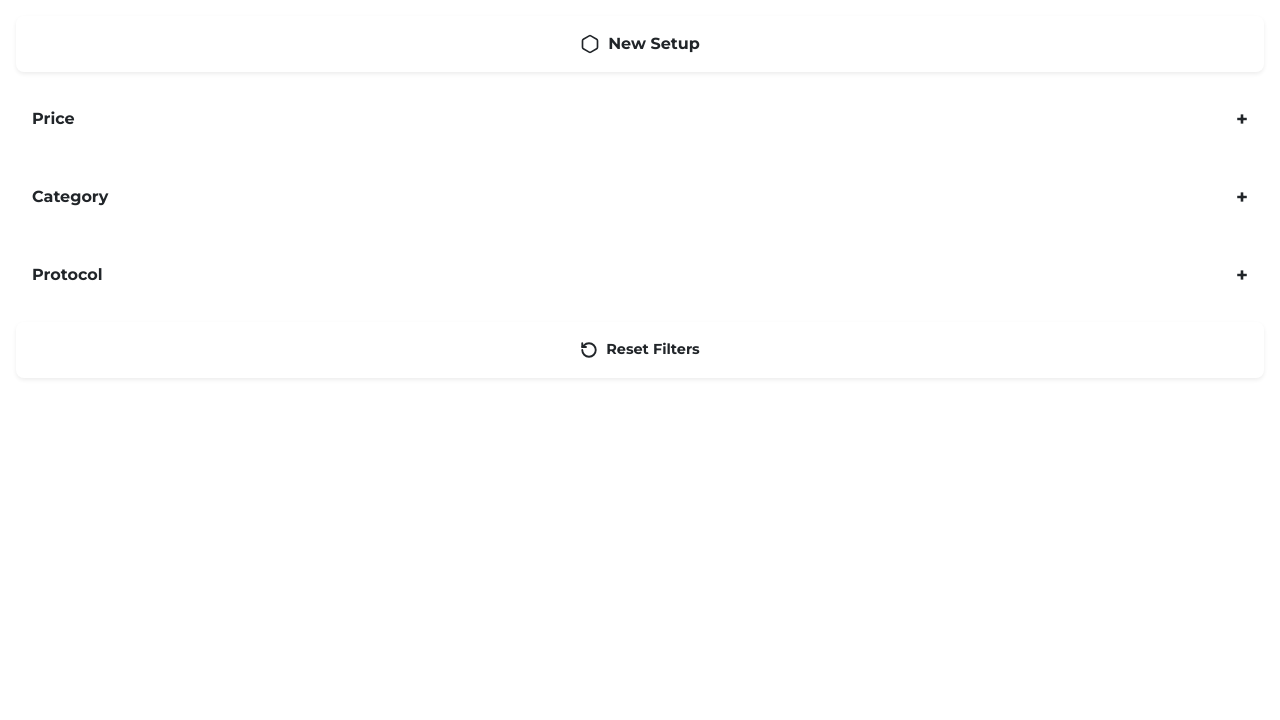
Test: extinde si restrange lista de categorii
Click the heading "Category". click: (70, 197)
box: [32,187,108,207]
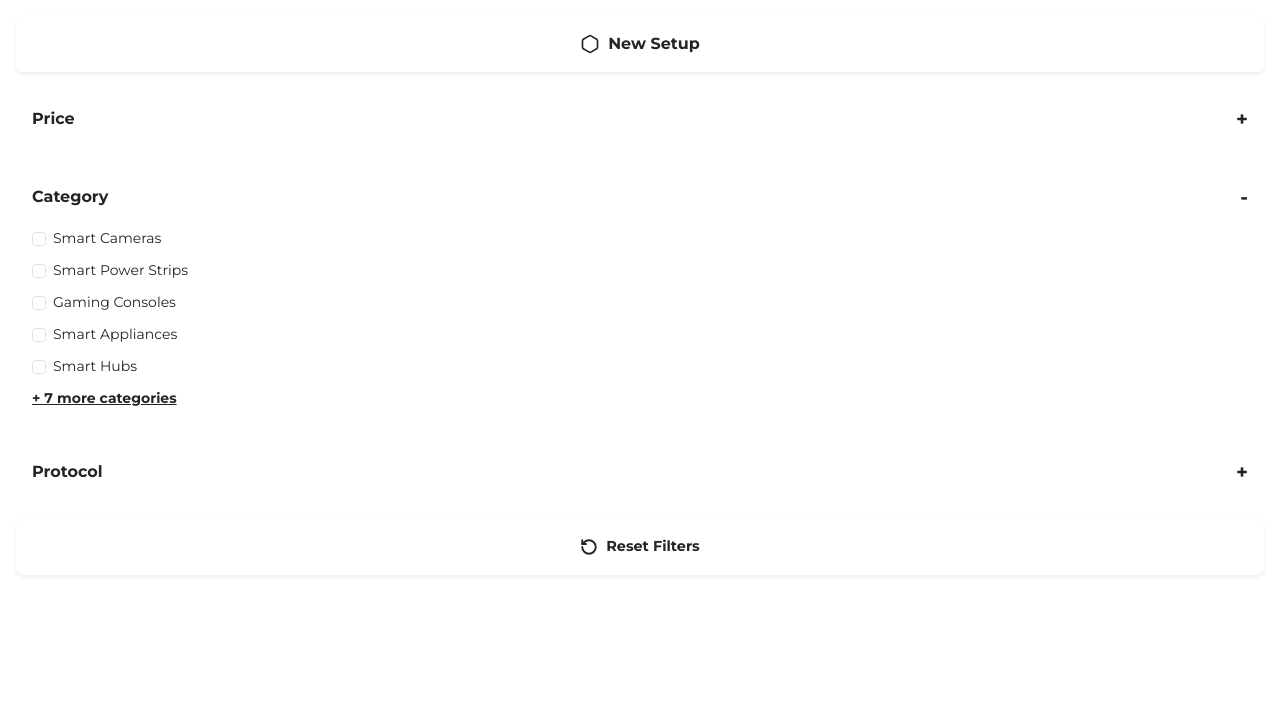
Click the text "+ 7 more categories". click: (104, 398)
box: [32,389,177,407]
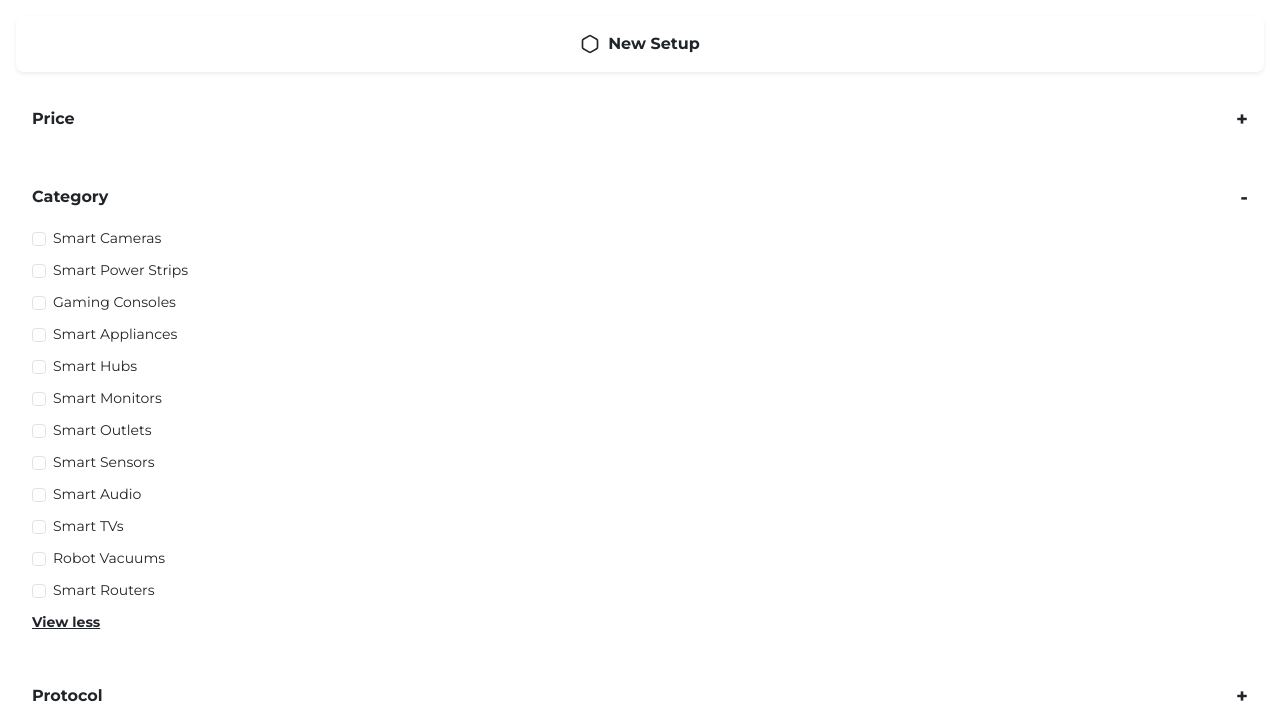
Check: the text "View less" is shown, box [32,613,100,631]
